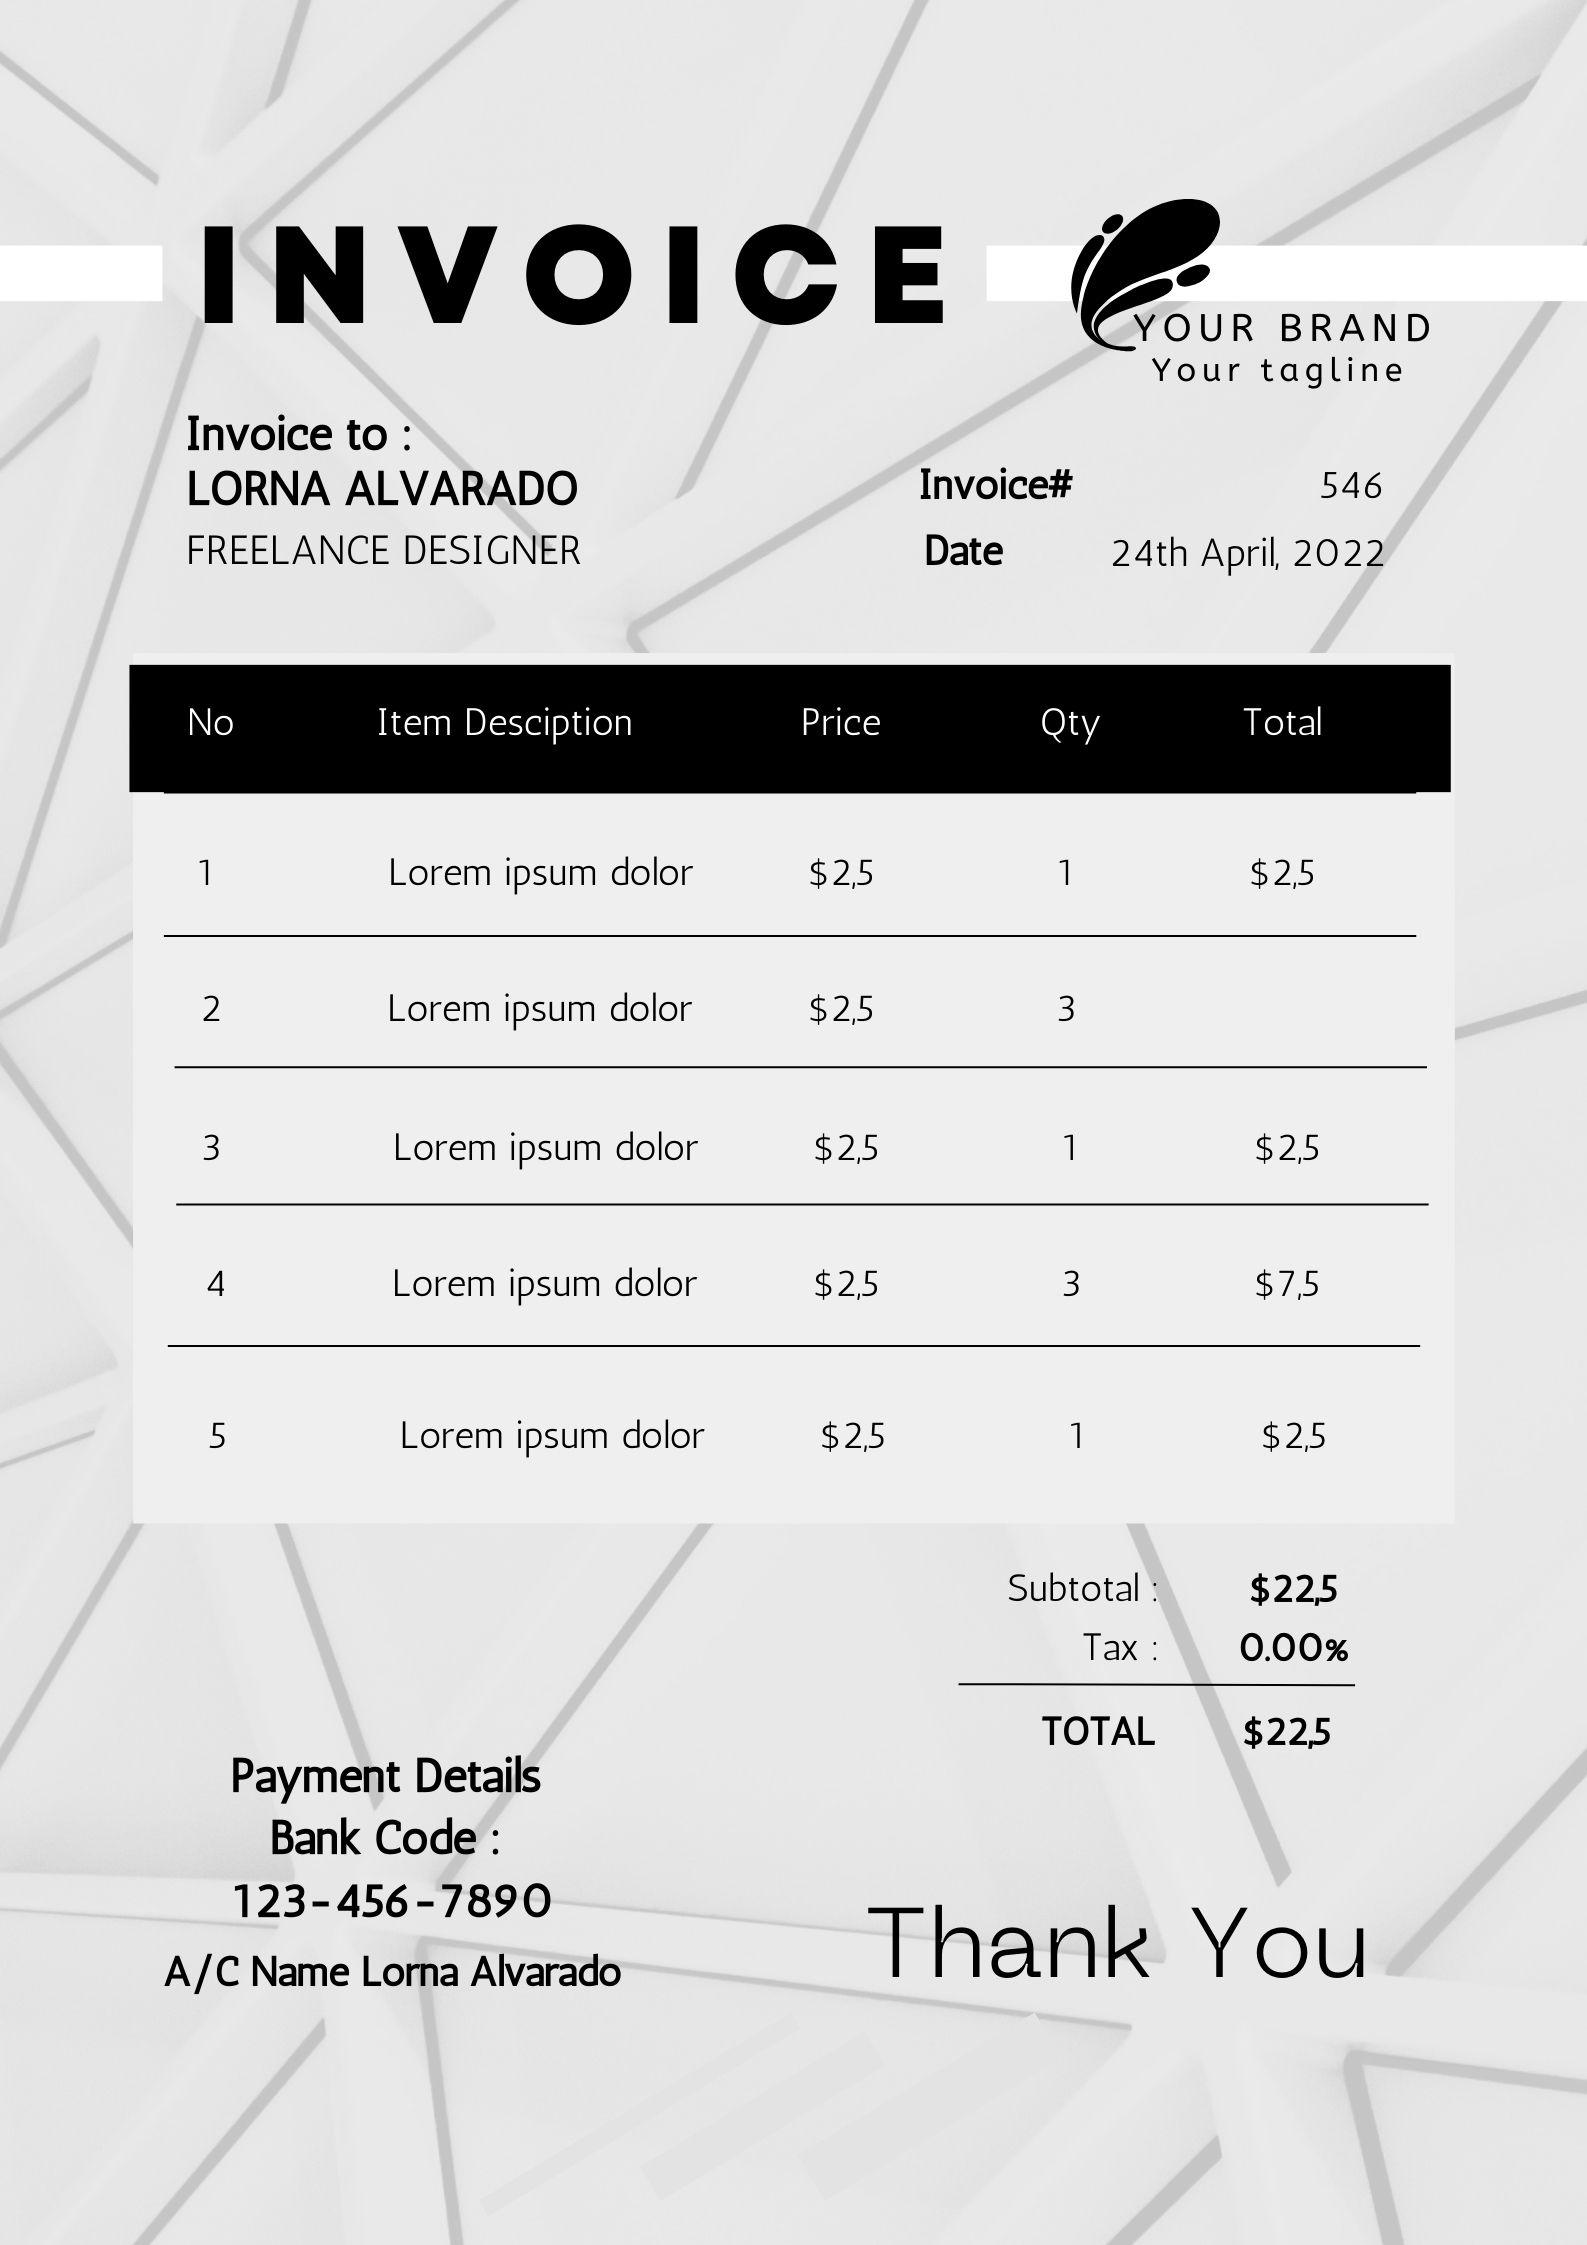ROI: (107, 650, 1473, 1530), (103, 1700, 683, 2070), (110, 380, 657, 620), (837, 410, 1440, 613), (943, 1553, 1403, 1797)
